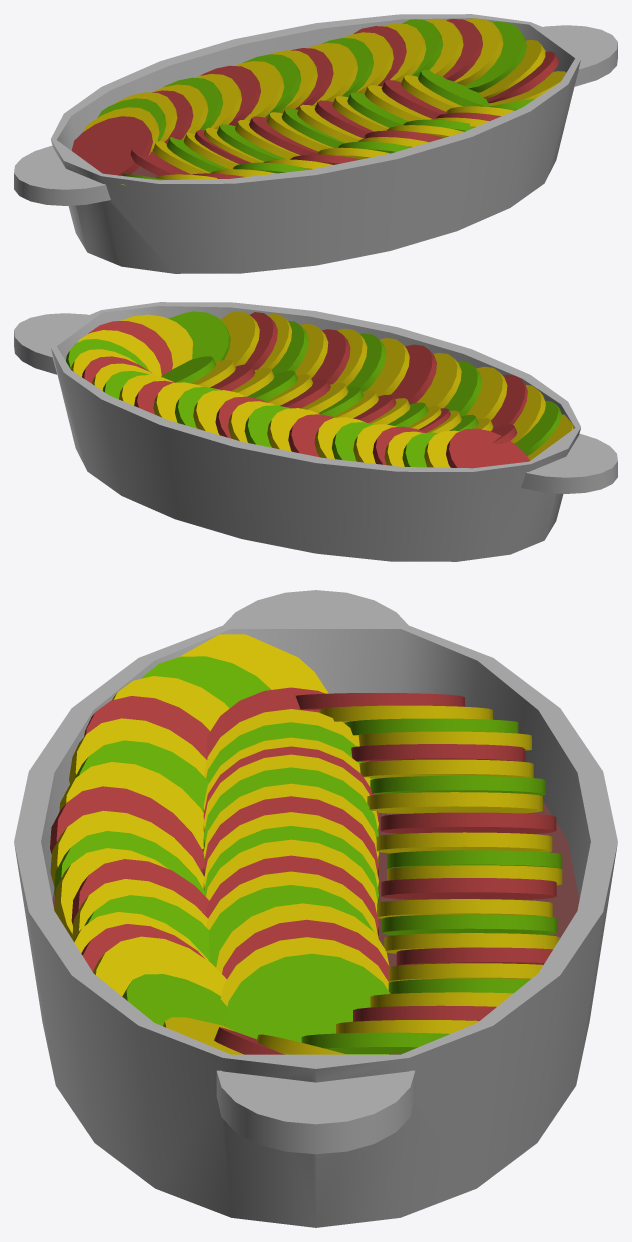
File: ratatouille.fbx
3 views of the same model, one above another, from view 1: azimuth 30°, elevation 25°; view 2: azimuth 150°, elevation 25°; view 3: azimuth 270°, elevation 25° (orthographic). The views are drawn at different scales.
Parts seen in each view (by area): view 1: container, pCylinder52, pCylinder19, pCylinder10, pCylinder43, pCylinder18, pCylinder44, pCylinder70, pCylinder12, pCylinder17, pCylinder20, pCylinder14 (+44 smaller); view 2: container, pCylinder52, pCylinder23, pCylinder33, pCylinder22, pCylinder24, pCylinder34, pCylinder32, pCylinder36, pCylinder21, pCylinder29, pCylinder20 (+46 smaller); view 3: container, pCylinder70, pCylinder24, pCylinder41, pCylinder34, pCylinder33, pCylinder23, pCylinder8, pCylinder45, pCylinder44, pCylinder66, pCylinder11 (+52 smaller).
Part boxes in pixels (x1=…): container: x1=14, y1=14, x2=617, y2=273; pCylinder52: x1=71, y1=116, x2=152, y2=175; pCylinder19: x1=465, y1=21, x2=526, y2=92; pCylinder10: x1=307, y1=43, x2=357, y2=106; pCylinder43: x1=235, y1=61, x2=284, y2=120; pCylinder18: x1=454, y1=18, x2=503, y2=85; pCylinder44: x1=200, y1=65, x2=260, y2=125; pCylinder70: x1=418, y1=69, x2=489, y2=106; pCylinder12: x1=343, y1=32, x2=393, y2=93; pCylinder17: x1=443, y1=19, x2=482, y2=81; pCylinder20: x1=479, y1=39, x2=545, y2=98; pCylinder14: x1=381, y1=23, x2=426, y2=86; container: x1=14, y1=302, x2=617, y2=561; pCylinder52: x1=446, y1=428, x2=529, y2=468; pCylinder23: x1=168, y1=311, x2=230, y2=361; pCylinder33: x1=391, y1=344, x2=436, y2=404; pCylinder22: x1=120, y1=314, x2=192, y2=369; pCylinder24: x1=220, y1=311, x2=259, y2=366; pCylinder34: x1=416, y1=353, x2=461, y2=408; pCylinder32: x1=366, y1=338, x2=409, y2=396; pCylinder36: x1=466, y1=366, x2=507, y2=420; pCylinder21: x1=88, y1=321, x2=172, y2=375; pCylinder29: x1=311, y1=329, x2=350, y2=384; pCylinder20: x1=77, y1=330, x2=161, y2=376; container: x1=14, y1=590, x2=617, y2=1227; pCylinder70: x1=224, y1=953, x2=390, y2=1054; pCylinder24: x1=93, y1=936, x2=226, y2=996; pCylinder41: x1=179, y1=634, x2=328, y2=693; pCylinder34: x1=59, y1=762, x2=203, y2=848; pCylinder33: x1=50, y1=786, x2=203, y2=869; pCylinder23: x1=122, y1=974, x2=227, y2=1025; pCylinder8: x1=381, y1=878, x2=556, y2=899; pCylinder45: x1=367, y1=792, x2=542, y2=813; pCylinder44: x1=380, y1=812, x2=556, y2=833; pCylinder66: x1=208, y1=885, x2=374, y2=967; pCylinder11: x1=381, y1=914, x2=557, y2=935.
Size of the model in its own units: 76.37 by 12.54 by 36.49.
